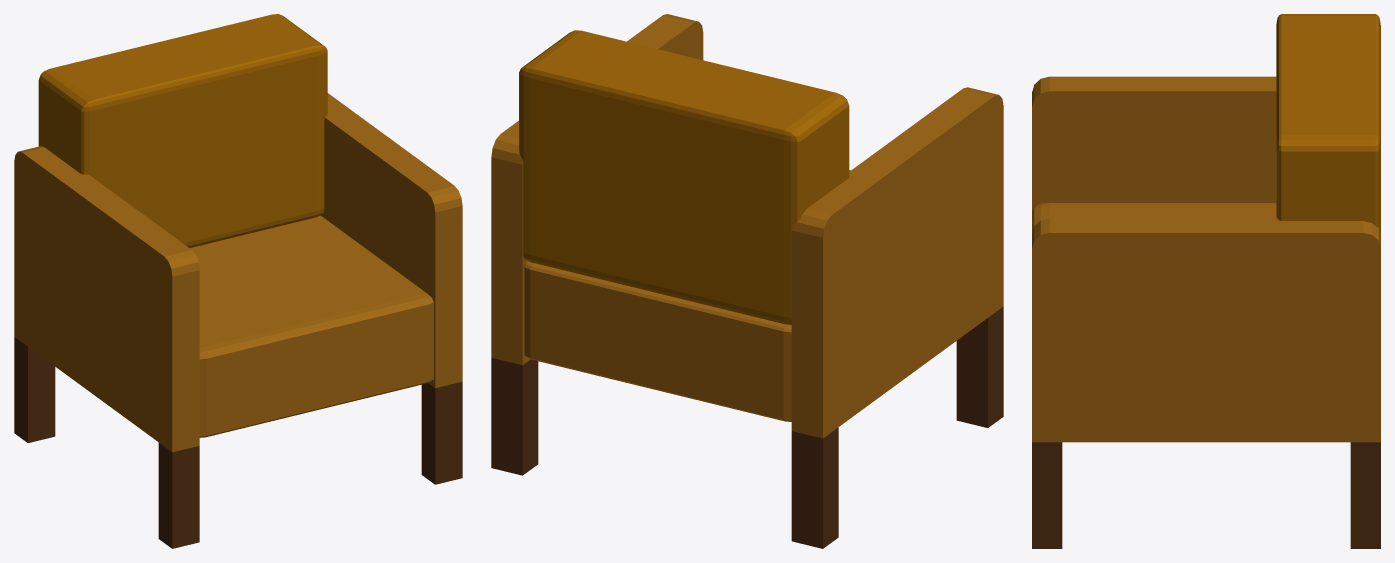
File: SOFA.fbx
3 renders of one model, left to right at view 1: azimuth 30°, elevation 25°; view 2: azimuth 150°, elevation 25°; view 3: azimuth 270°, elevation 25°, orthographic. The views are drawn at different scales.
Parts seen in each view (by area): view 1: Cube; view 2: Cube; view 3: Cube.
Boxes of the visible parts, bbox=[...] form: Cube: bbox=[14, 14, 462, 548]; Cube: bbox=[491, 14, 1003, 548]; Cube: bbox=[1032, 14, 1380, 548].
Size of the model in its own units: 212 by 250 by 200.
